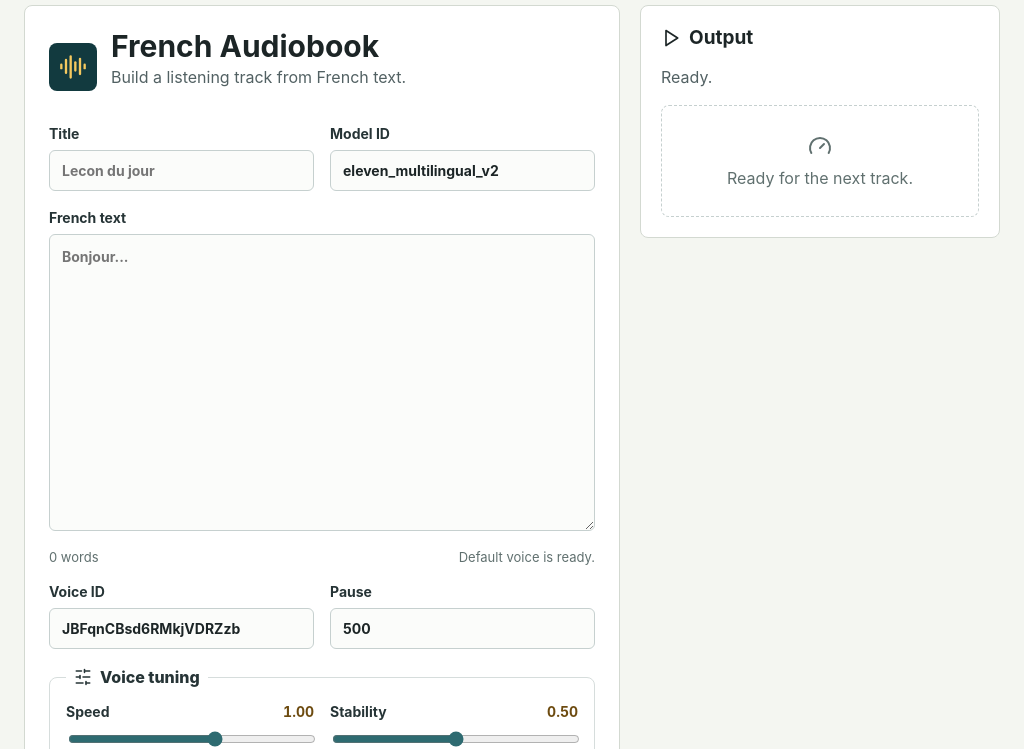
App › saves the already-generated MP3 blob to OneDrive when connected
Type "OneDrive" into the field labelled "Title" at coordinates (182, 170), box [49,150,314,191]
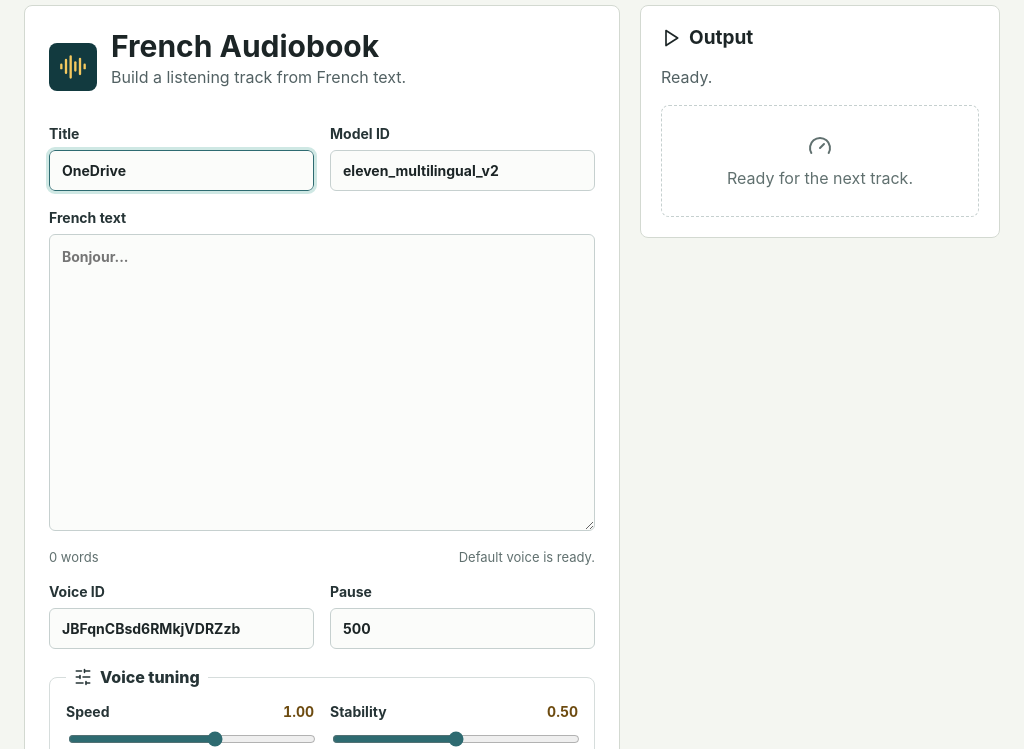
Type "Bonjour." into the text box labelled "French text" at coordinates (322, 382), box [49,234,595,531]
(page scrolled)
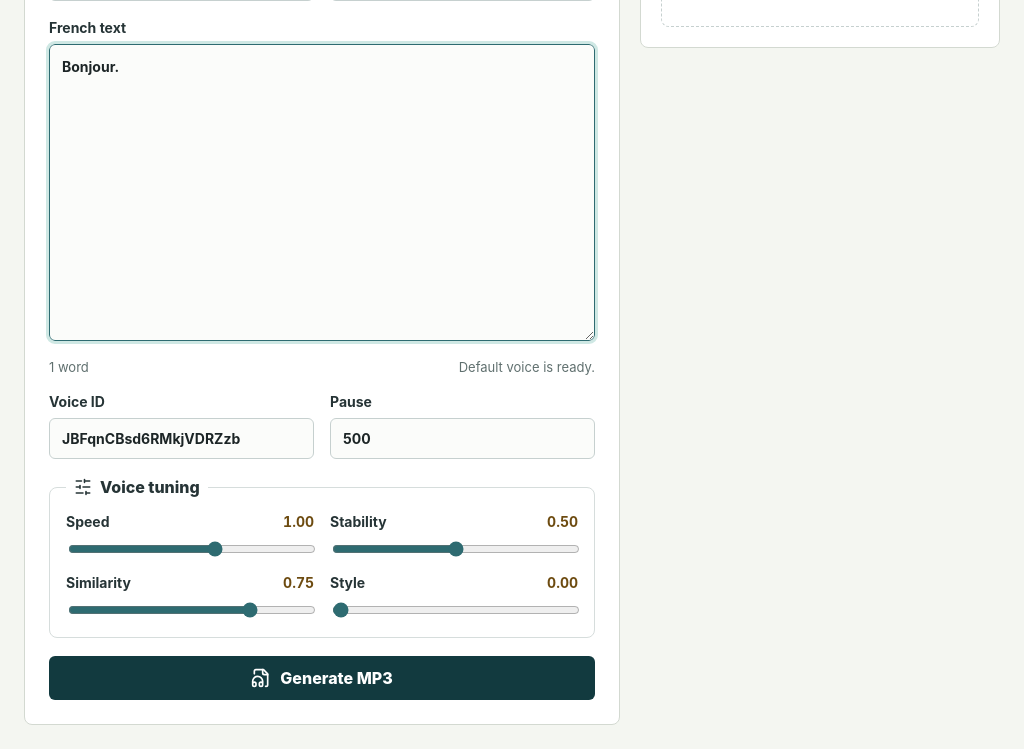
Click the button "Generate MP3" at coordinates (322, 678), box [49,656,595,700]
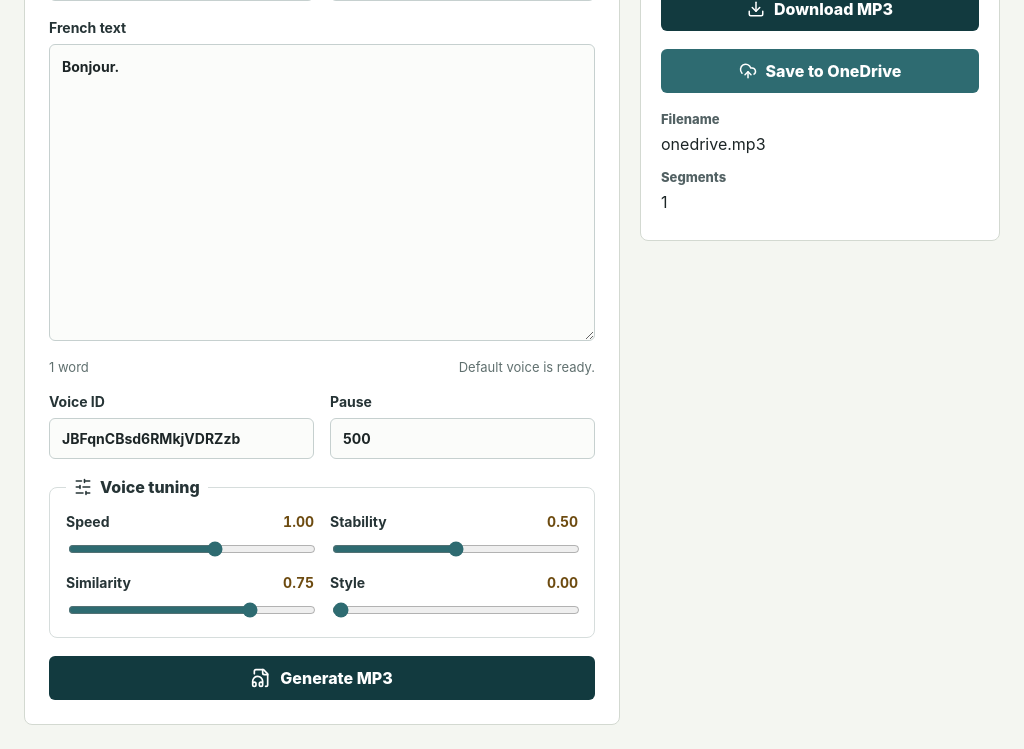
Click the button "Save to OneDrive" at coordinates (820, 71), box [661,49,979,93]
(page scrolled)
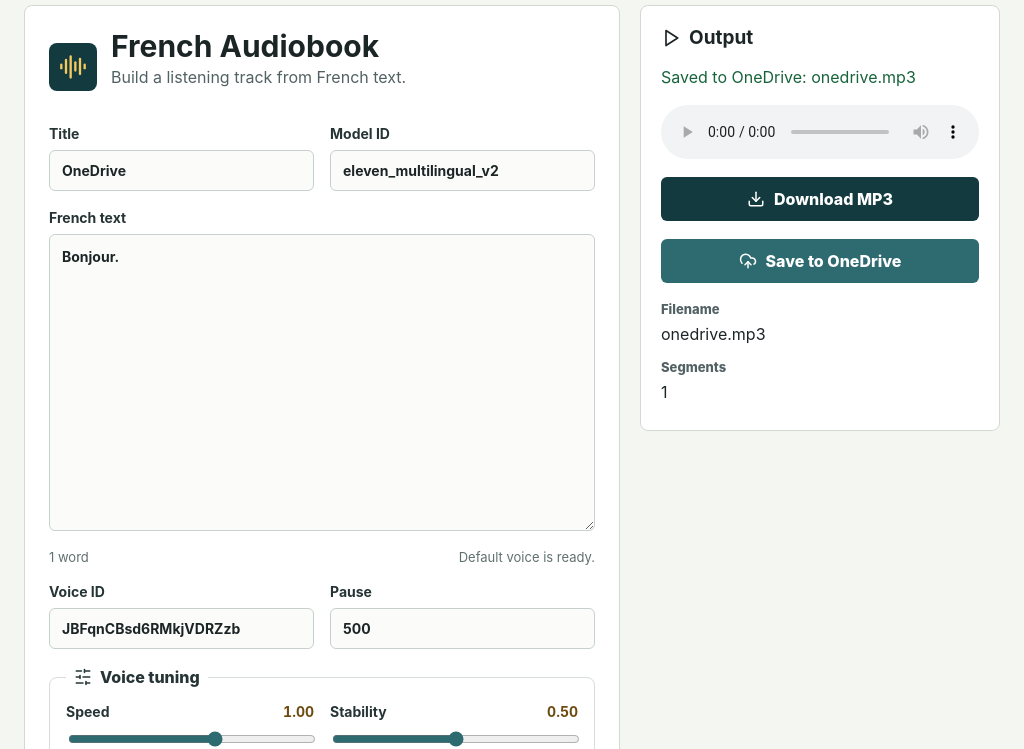
Now the text "onedrive.mp3" is shown, box [661,324,766,344]
Now the text "Saved to OneDrive: onedrive.mp3" is shown, box [661,67,916,87]
